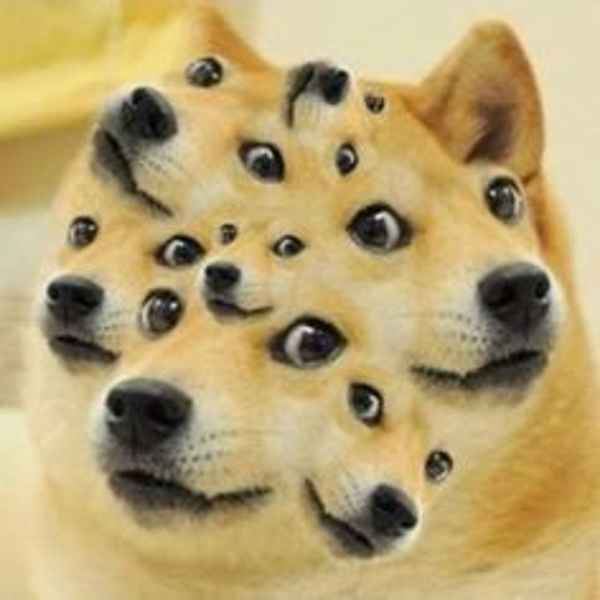doge: (82, 268, 349, 549), (351, 170, 556, 409), (67, 45, 294, 231), (294, 363, 466, 579), (34, 198, 212, 374), (279, 41, 403, 203), (197, 213, 332, 329)
